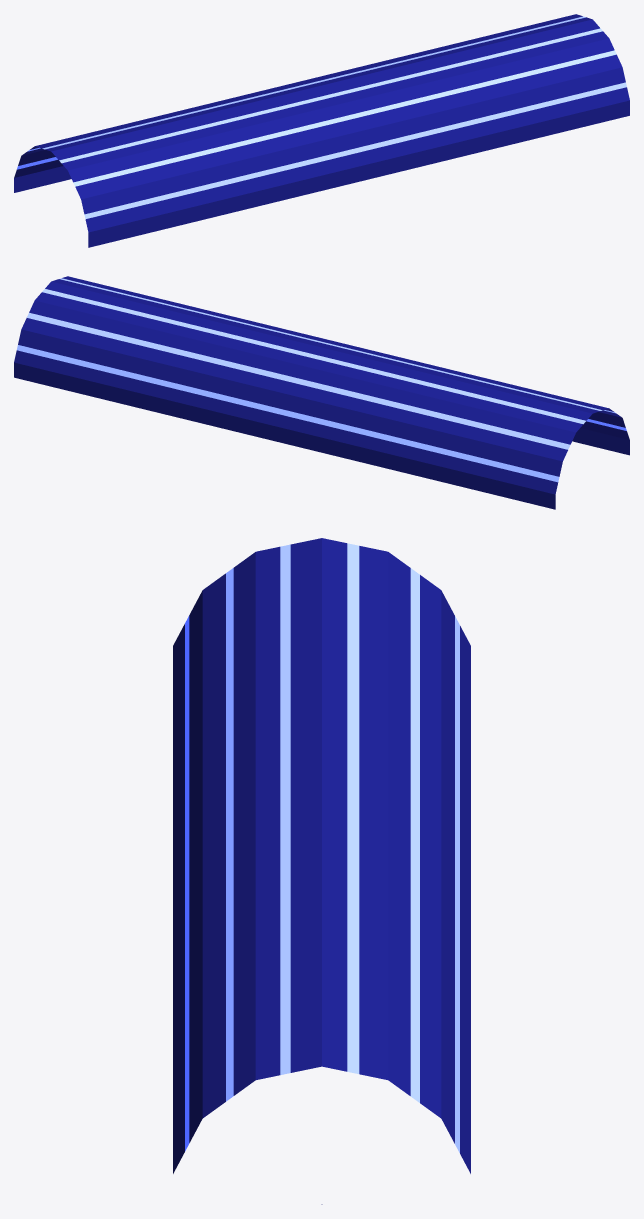
Rendered from kopuła.fbx.
3 renders of one model, top to bottom at view 1: azimuth 30°, elevation 25°; view 2: azimuth 150°, elevation 25°; view 3: azimuth 270°, elevation 25°, orthographic. The views are drawn at different scales.
Visible parts, largest first — view 1: Cylinder; view 2: Cylinder; view 3: Cylinder.
Part boxes in pixels (x1,y1,x2,y2): Cylinder: [14, 14, 629, 247]; Cylinder: [14, 276, 629, 509]; Cylinder: [173, 538, 470, 1204].
Size of the model in its own units: 12289 by 1500 by 2925.
